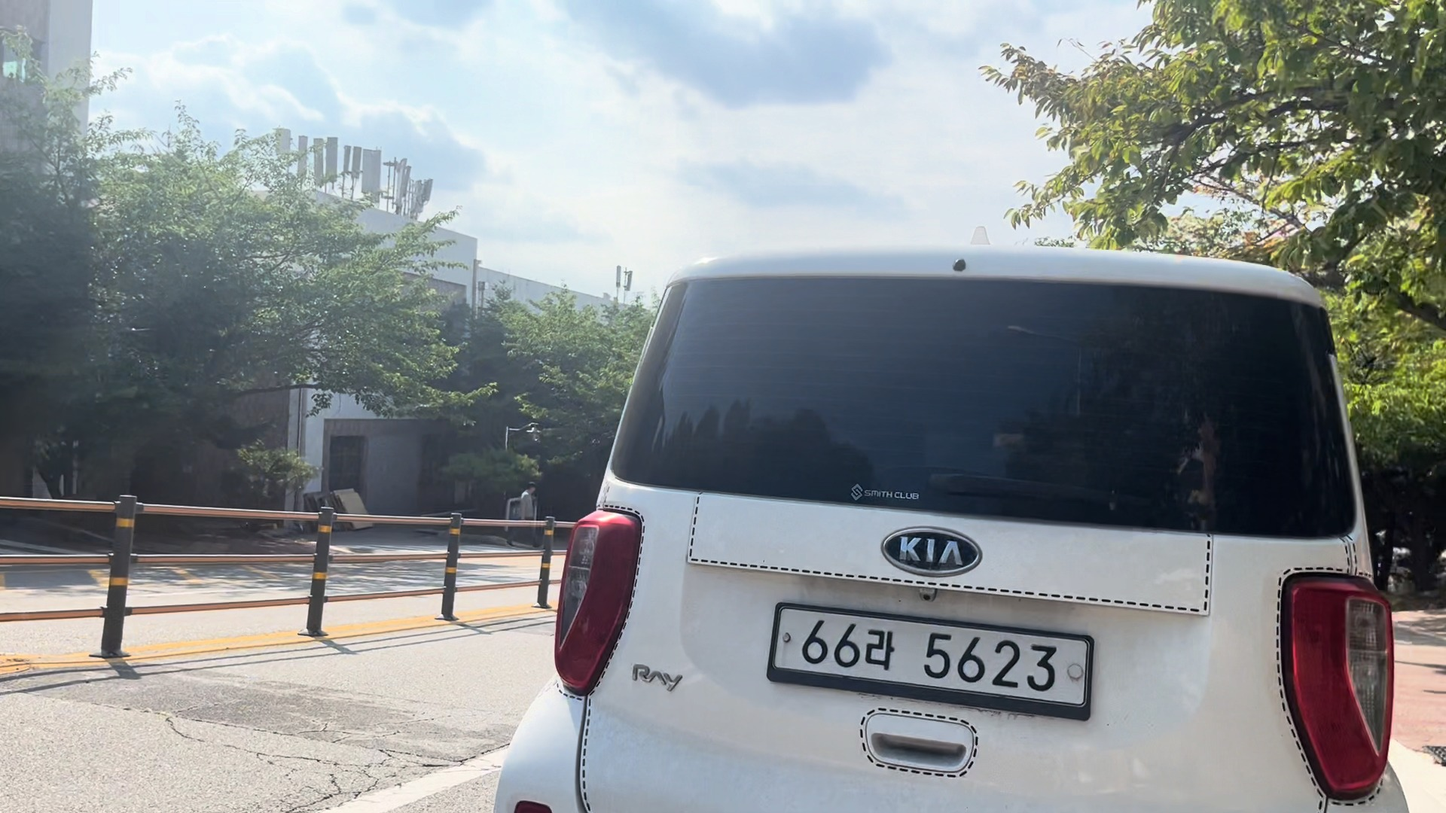car_emblem: (884, 529, 981, 573)
license_plate: (767, 604, 1092, 720)
tail_light: (1282, 576, 1393, 799), (554, 512, 640, 694)
